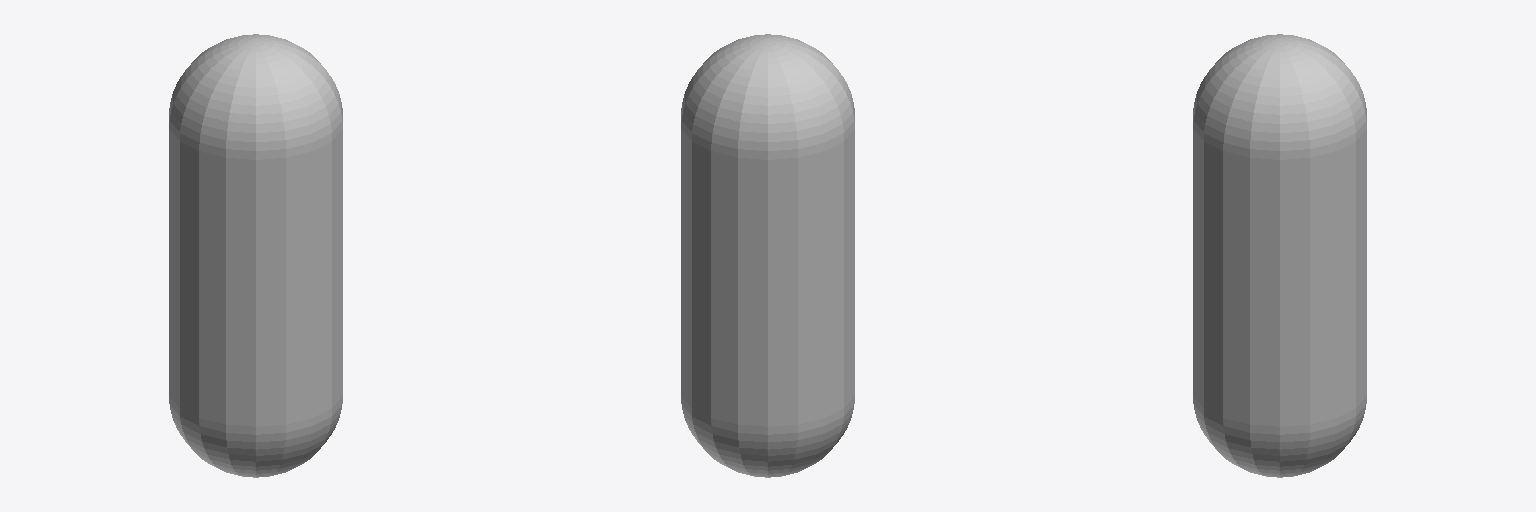
Rendered from E_leg_left.obj.
3 views of the same model, side by side, from view 1: azimuth 30°, elevation 25°; view 2: azimuth 150°, elevation 25°; view 3: azimuth 270°, elevation 25° (orthographic).
Visible parts, largest first — view 1: leg_left; view 2: leg_left; view 3: leg_left.
Boxes of the visible parts, x1,y1,x2,y2 form: leg_left: [169, 34, 342, 477]; leg_left: [681, 34, 854, 477]; leg_left: [1193, 34, 1366, 477].
Size of the model in its own units: 0.6 by 1.6 by 0.5909.